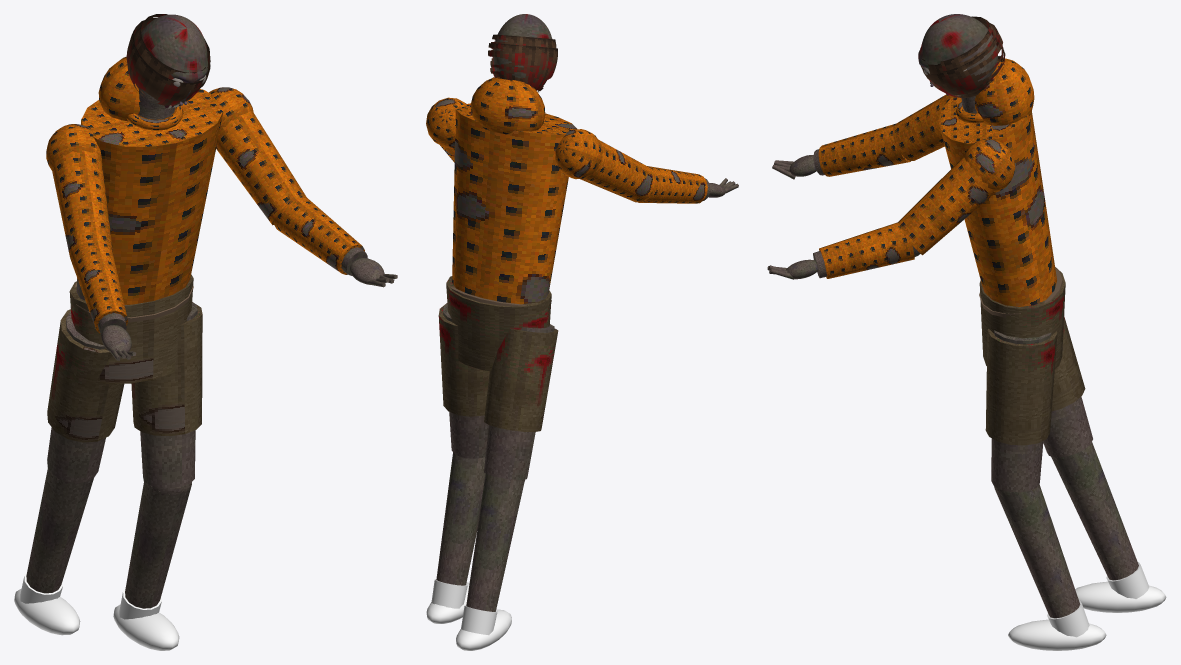
File: Zombie_046.glb
3 views of the same model, side by side, from view 1: azimuth 30°, elevation 25°; view 2: azimuth 150°, elevation 25°; view 3: azimuth 270°, elevation 25° (orthographic). The views are drawn at different scales.
Visible parts, largest first — view 1: Zombie_046, object 12, object 18, object 4, object 42, object 41, object 5, object 13; view 2: Zombie_046, object 42, object 4, object 18, object 41; view 3: Zombie_046, object 12, object 18, object 4, object 42, object 41.
Boxes of the visible parts, bbox=[...] form: Zombie_046: bbox=[14, 56, 306, 650]; object 12: bbox=[273, 196, 364, 274]; object 18: bbox=[141, 14, 207, 103]; object 4: bbox=[70, 242, 128, 333]; object 42: bbox=[126, 20, 210, 105]; object 41: bbox=[133, 14, 210, 99]; object 5: bbox=[101, 325, 131, 351]; object 13: bbox=[349, 258, 384, 284]; Zombie_046: bbox=[426, 77, 655, 650]; object 42: bbox=[488, 43, 557, 92]; object 4: bbox=[637, 166, 707, 203]; object 18: bbox=[493, 14, 552, 78]; object 41: bbox=[490, 34, 556, 82]; Zombie_046: bbox=[892, 58, 1166, 650]; object 12: bbox=[819, 222, 914, 278]; object 18: bbox=[918, 14, 997, 84]; object 4: bbox=[818, 123, 910, 176]; object 42: bbox=[920, 23, 1005, 97]; object 41: bbox=[919, 16, 1003, 95].
Size of the model in its own units: 0.7559 by 1.74 by 1.01.
16 materials, 6 textured.
